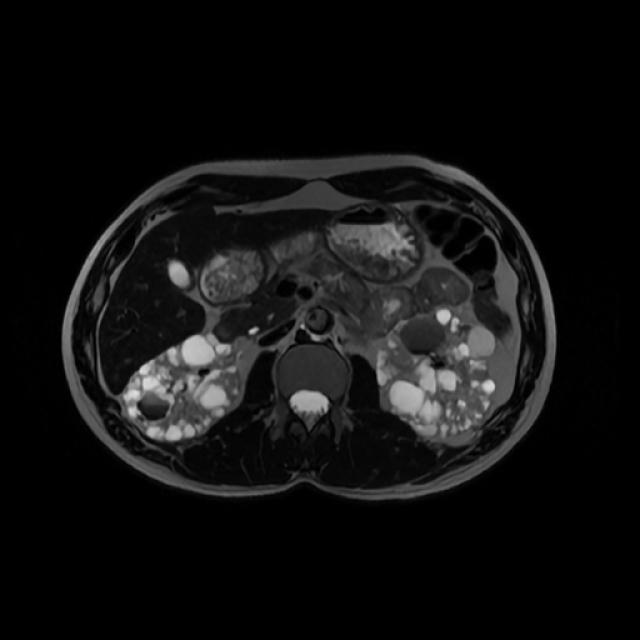sag: (123, 334, 243, 441)
sol: (377, 309, 497, 439)
